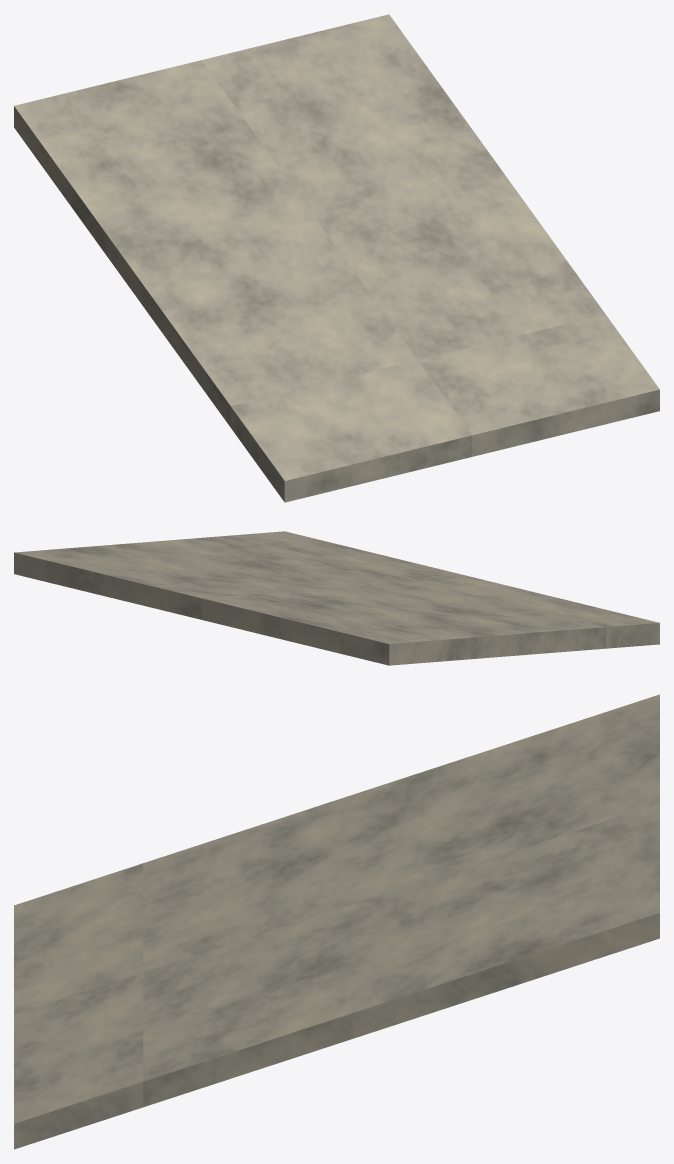
The model's file is Approach_Ramp.glb.
The picture shows the model from 3 angles, top to bottom: view 1: azimuth 30°, elevation 25°; view 2: azimuth 150°, elevation 25°; view 3: azimuth 270°, elevation 25°; orthographic projection. The views are drawn at different scales.
Parts seen in each view (by area): view 1: Approach_Ramp; view 2: Approach_Ramp; view 3: Approach_Ramp.
Boxes of the visible parts, x1,y1,x2,y2 form: Approach_Ramp: [14, 14, 659, 502]; Approach_Ramp: [14, 531, 659, 665]; Approach_Ramp: [14, 694, 659, 1149].
Bounding box in the file's own units: 4 × 2.02 × 5.
Materials: 1 (1 with a texture image).
